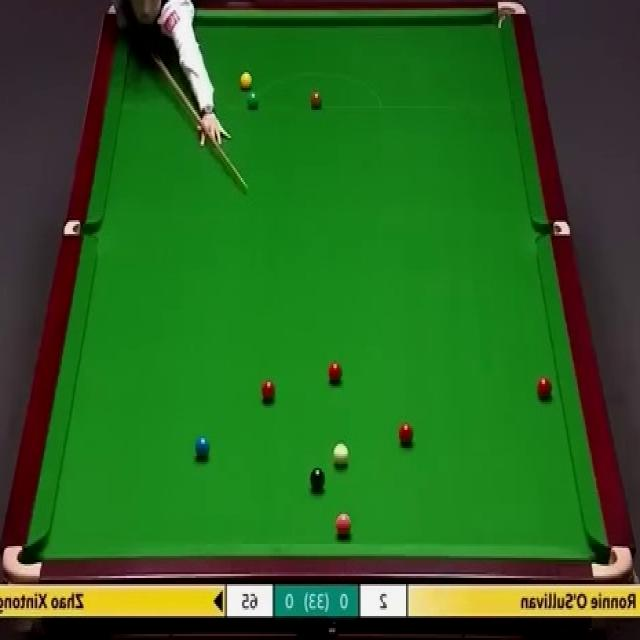pocket: (2, 545, 45, 583), (590, 545, 632, 580), (497, 0, 527, 28), (538, 218, 574, 238), (66, 220, 100, 235)
